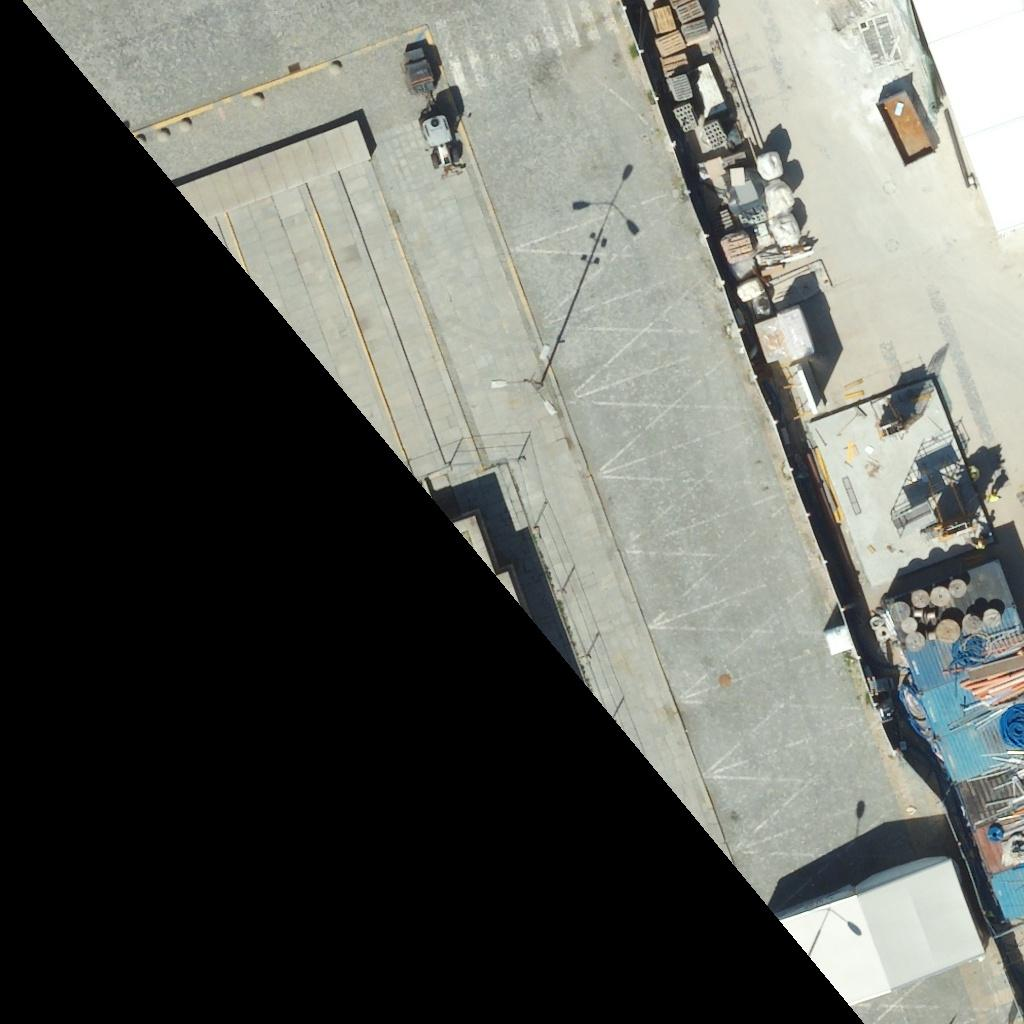kontener: (779, 857, 982, 1005), (992, 866, 1023, 922)
koparka: (417, 111, 464, 181)
